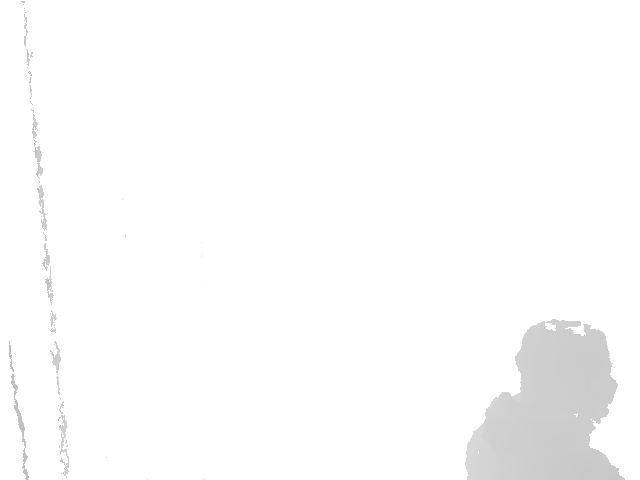head: (515, 319, 616, 443)
person: (463, 320, 628, 480)
